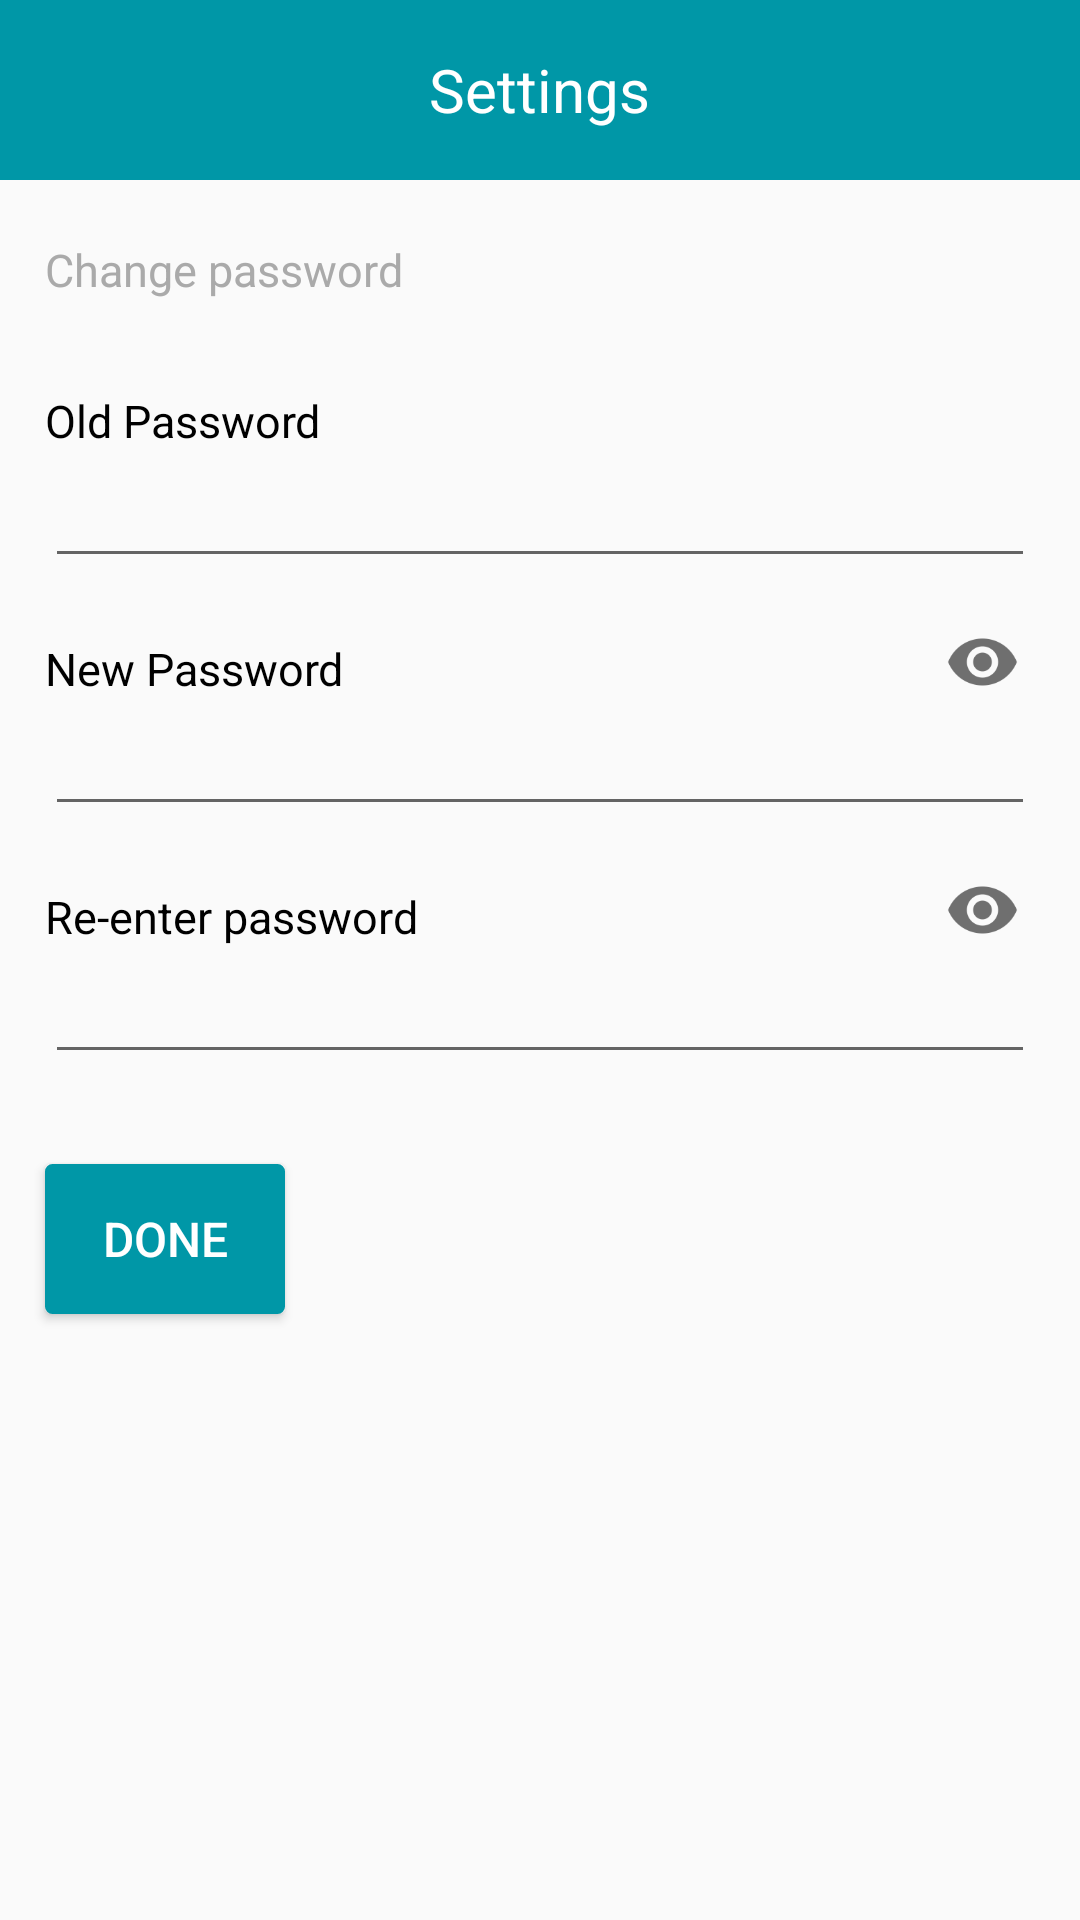

Named icons in this screenshot (1080x1920) and their bounding boxes, (x1, y1, x2, y2):
remove eye: (948, 638, 1017, 686), (948, 886, 1017, 934)
